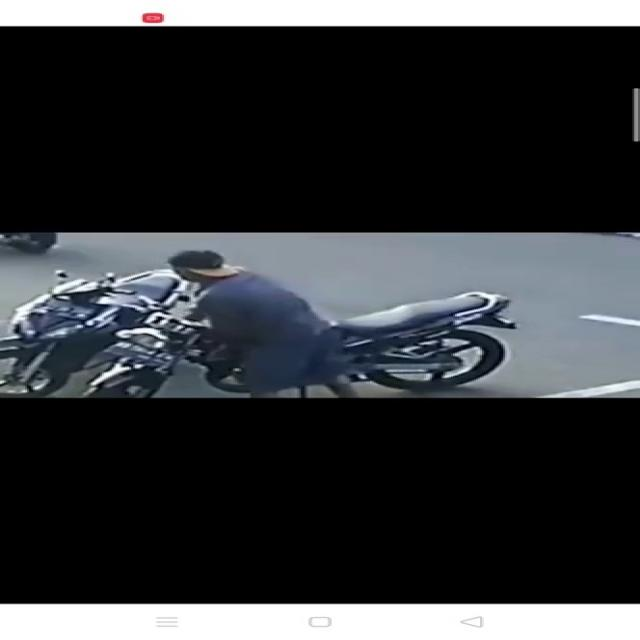pencurian: (110, 248, 520, 398)
